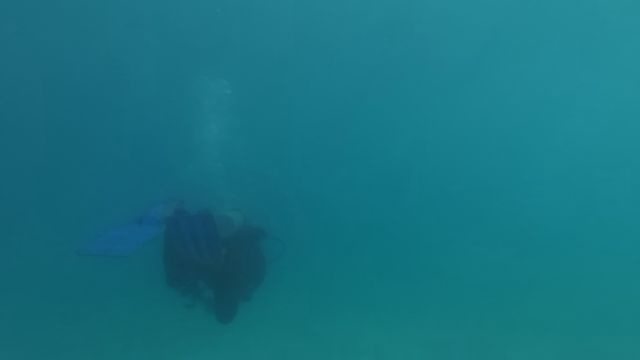Diver: (69, 186, 285, 328)
